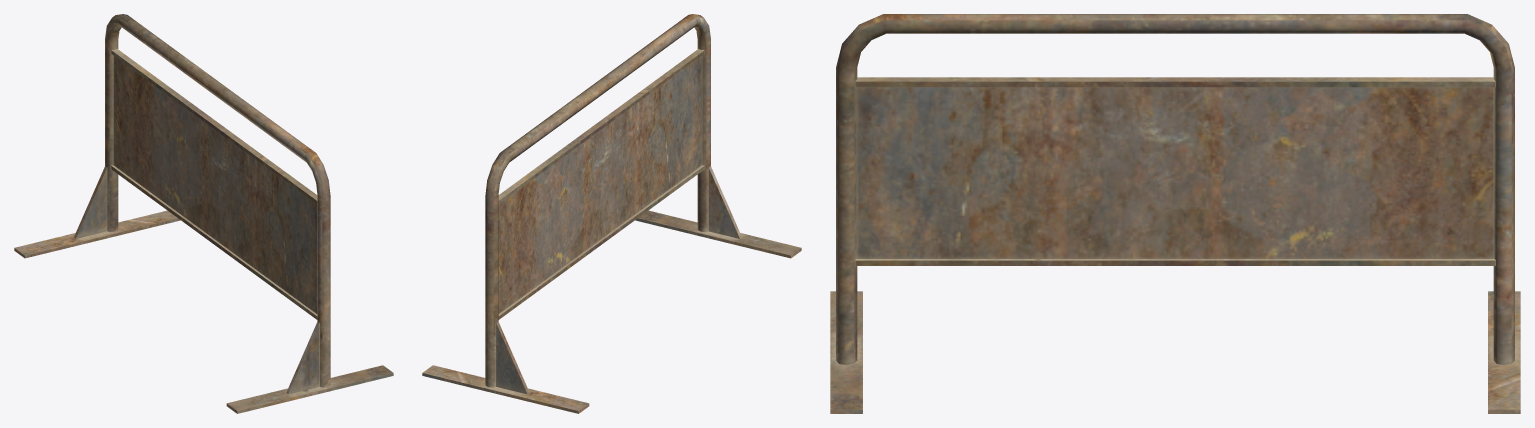
File: fence_5.fbx
The picture shows the model from 3 angles, left to right: view 1: azimuth 30°, elevation 25°; view 2: azimuth 150°, elevation 25°; view 3: azimuth 270°, elevation 25°; orthographic projection. The views are drawn at different scales.
Visible parts, largest first — view 1: var2_5; view 2: var2_5; view 3: var2_5.
Part boxes in pixels (left/top/right/bottom): var2_5: left=14, top=14, right=393, bottom=413; var2_5: left=422, top=14, right=801, bottom=413; var2_5: left=830, top=14, right=1520, bottom=413.
Size of the model in its own units: 70.83 by 98.14 by 175.
Materials: 1 (1 with a texture image).
